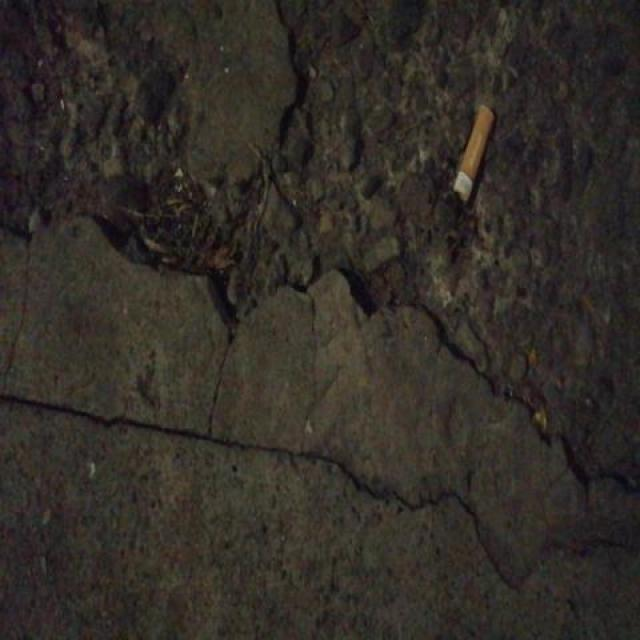non-organic waste: (451, 99, 498, 208)
